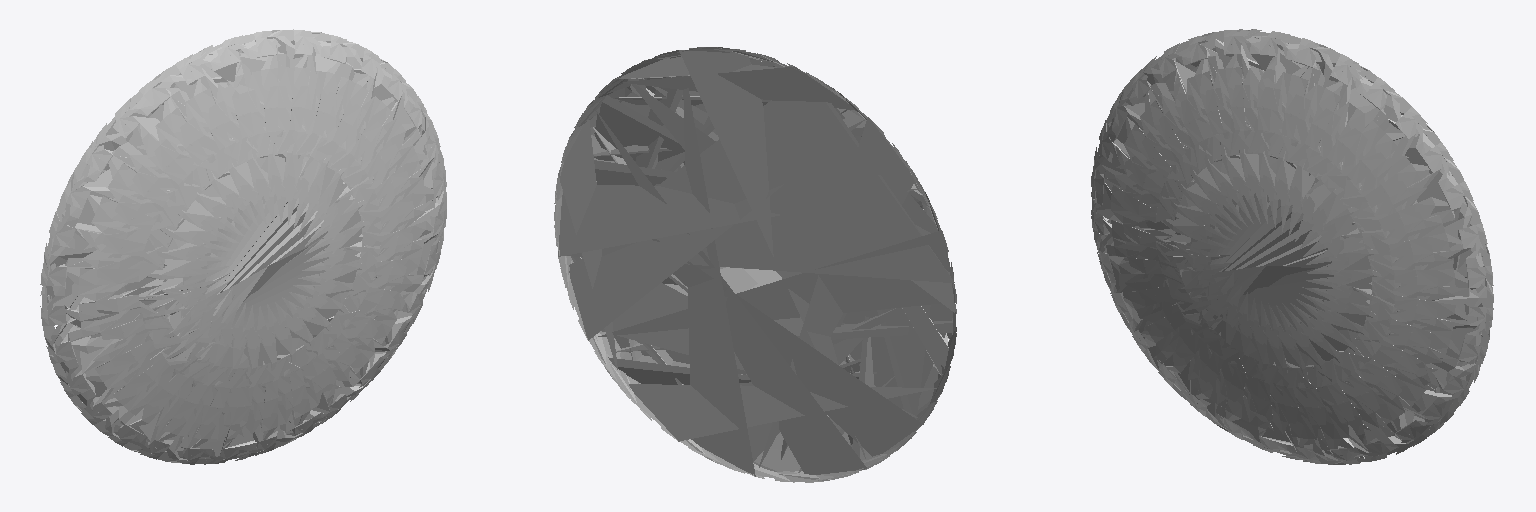
Rendered from eyeball.obj.
3 renders of one model, left to right at view 1: azimuth 30°, elevation 25°; view 2: azimuth 150°, elevation 25°; view 3: azimuth 330°, elevation 25°, orthographic.
Bounding box in the file's own units: 1.49 × 1.49 × 0.1671.